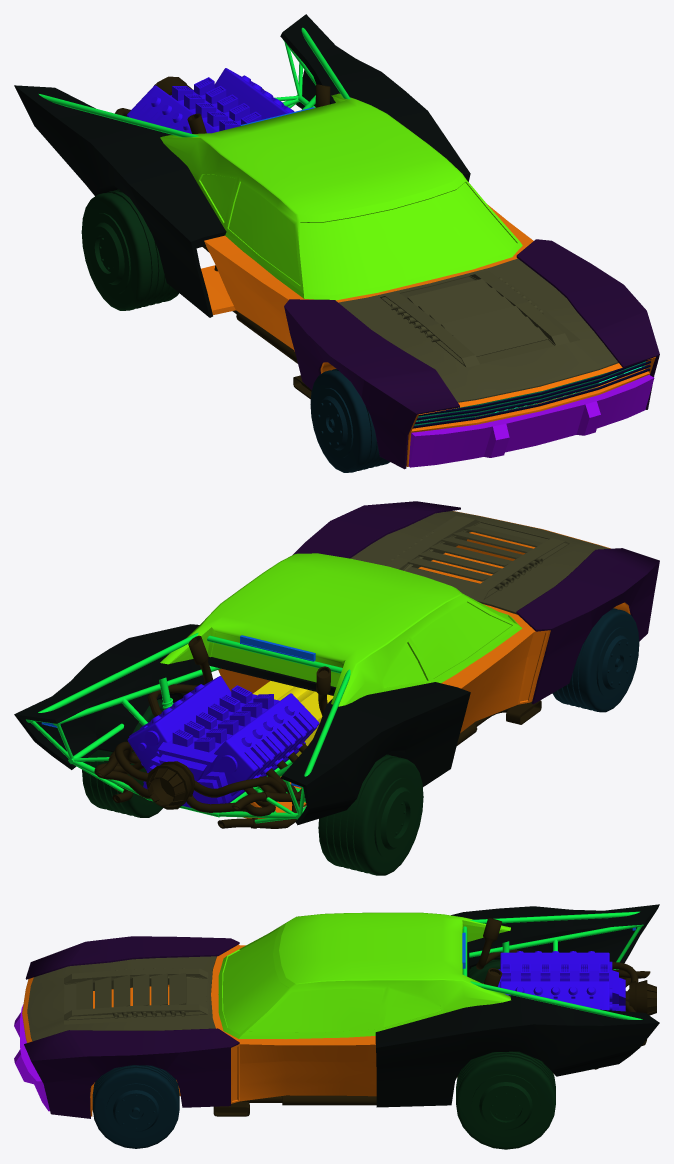
The model's file is Batmobile.fbx.
3 views of the same model, one above another, from view 1: azimuth 30°, elevation 25°; view 2: azimuth 150°, elevation 25°; view 3: azimuth 270°, elevation 25° (orthographic). The views are drawn at different scales.
Parts seen in each view (by area): view 1: Habitaculo, Backside, Capo, PlacasLateralesFrontales, Chasis, Parachoques, RuedaTraseraDecha, Motor, RuedaDelanteraDecha, Rejilla, JaulaMotor, TuboDeEscape (+1 smaller); view 2: Habitaculo, Backside, PlacasLateralesFrontales, Motor, Capo, TuboDeEscape, RuedaTraseraDecha, Chasis, JaulaMotor, RuedaDelanteraDecha, RuedaTraseraIzq, Gearbox (+1 smaller); view 3: Habitaculo, Backside, PlacasLateralesFrontales, Capo, Chasis, RuedaTraseraIzq, RuedaDelanteraIzq, Motor, TuboDeEscape, JaulaMotor, Parachoques, RuedaTraseraDecha.
Boxes of the visible parts, x1=… form: Habitaculo: x1=160, y1=93, x2=522, y2=300; Backside: x1=14, y1=14, x2=470, y2=317; Capo: x1=338, y1=258, x2=618, y2=402; PlacasLateralesFrontales: x1=284, y1=239, x2=659, y2=469; Chasis: x1=201, y1=204, x2=655, y2=466; Parachoques: x1=408, y1=375, x2=654, y2=467; RuedaTraseraDecha: x1=81, y1=189, x2=178, y2=310; Motor: x1=127, y1=68, x2=294, y2=133; RuedaDelanteraDecha: x1=310, y1=369, x2=389, y2=472; Rejilla: x1=413, y1=358, x2=651, y2=428; JaulaMotor: x1=39, y1=27, x2=350, y2=137; TuboDeEscape: x1=115, y1=76, x2=330, y2=399; Habitaculo: x1=160, y1=553, x2=522, y2=706; Backside: x1=14, y1=624, x2=470, y2=825; PlacasLateralesFrontales: x1=293, y1=501, x2=659, y2=704; Motor: x1=127, y1=676, x2=319, y2=807; Capo: x1=350, y1=511, x2=609, y2=614; TuboDeEscape: x1=94, y1=635, x2=541, y2=828; RuedaTraseraDecha: x1=318, y1=754, x2=423, y2=875; Chasis: x1=218, y1=511, x2=630, y2=819; JaulaMotor: x1=26, y1=632, x2=350, y2=823; RuedaDelanteraDecha: x1=552, y1=608, x2=639, y2=712; RuedaTraseraIzq: x1=82, y1=699, x2=164, y2=817; Gearbox: x1=253, y1=681, x2=333, y2=756; Habitaculo: x1=218, y1=912, x2=510, y2=1039; Backside: x1=375, y1=904, x2=659, y2=1107; PlacasLateralesFrontales: x1=24, y1=936, x2=239, y2=1118; Capo: x1=27, y1=956, x2=216, y2=1041; Chasis: x1=22, y1=944, x2=457, y2=1116; RuedaTraseraIzq: x1=456, y1=1051, x2=555, y2=1149; RuedaDelanteraIzq: x1=92, y1=1065, x2=179, y2=1148; Motor: x1=498, y1=951, x2=625, y2=1011; TuboDeEscape: x1=213, y1=918, x2=656, y2=1116; JaulaMotor: x1=462, y1=911, x2=643, y2=1019; Parachoques: x1=14, y1=1004, x2=49, y2=1111; RuedaTraseraDecha: x1=469, y1=959, x2=500, y2=983.
Bounding box in the file's own units: 429 × 246 × 965.
